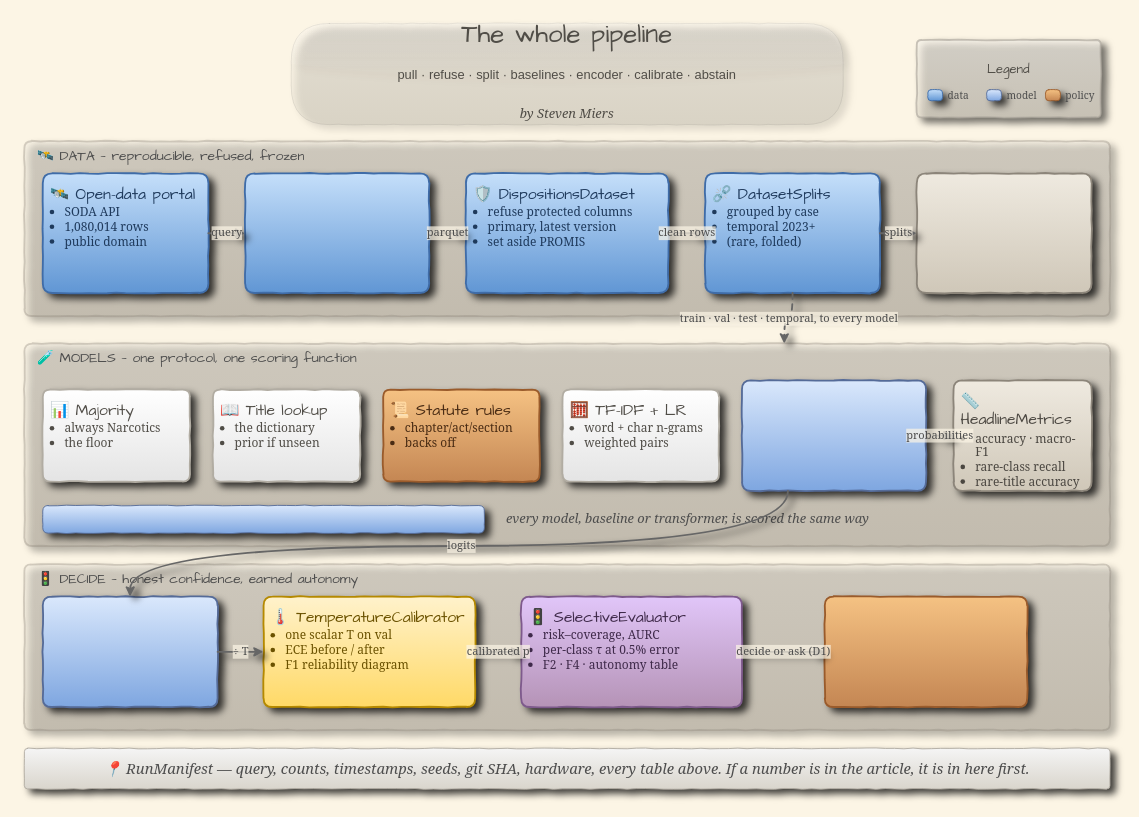
The diagram is 1139 pixels wide and 817 high, and some of its shapes have lost their labels. The centre of each missing label's shape, as x and y in pixels:
"Classifier: name · fit(train) · predict_proba(rows)" belongs at [265,521].
"🎣 SodaClient paged SoQL, $order=:id app token parquet + manifest" belongs at [339,235].
"📜 Policy engine disposition_map v1 report / do_not_report needs_review → humans" belongs at [928,653].
"🗃️ HubSnapshot no identifiers dataset card Hugging Face" belongs at [1006,235].
"🧬 Encoder legal-bert-small title [SEP] citation best epoch by val NLL" belongs at [836,437].
"🧾 LogitStore val · test · temporal PROMIS probe raw logits" belongs at [132,653].
